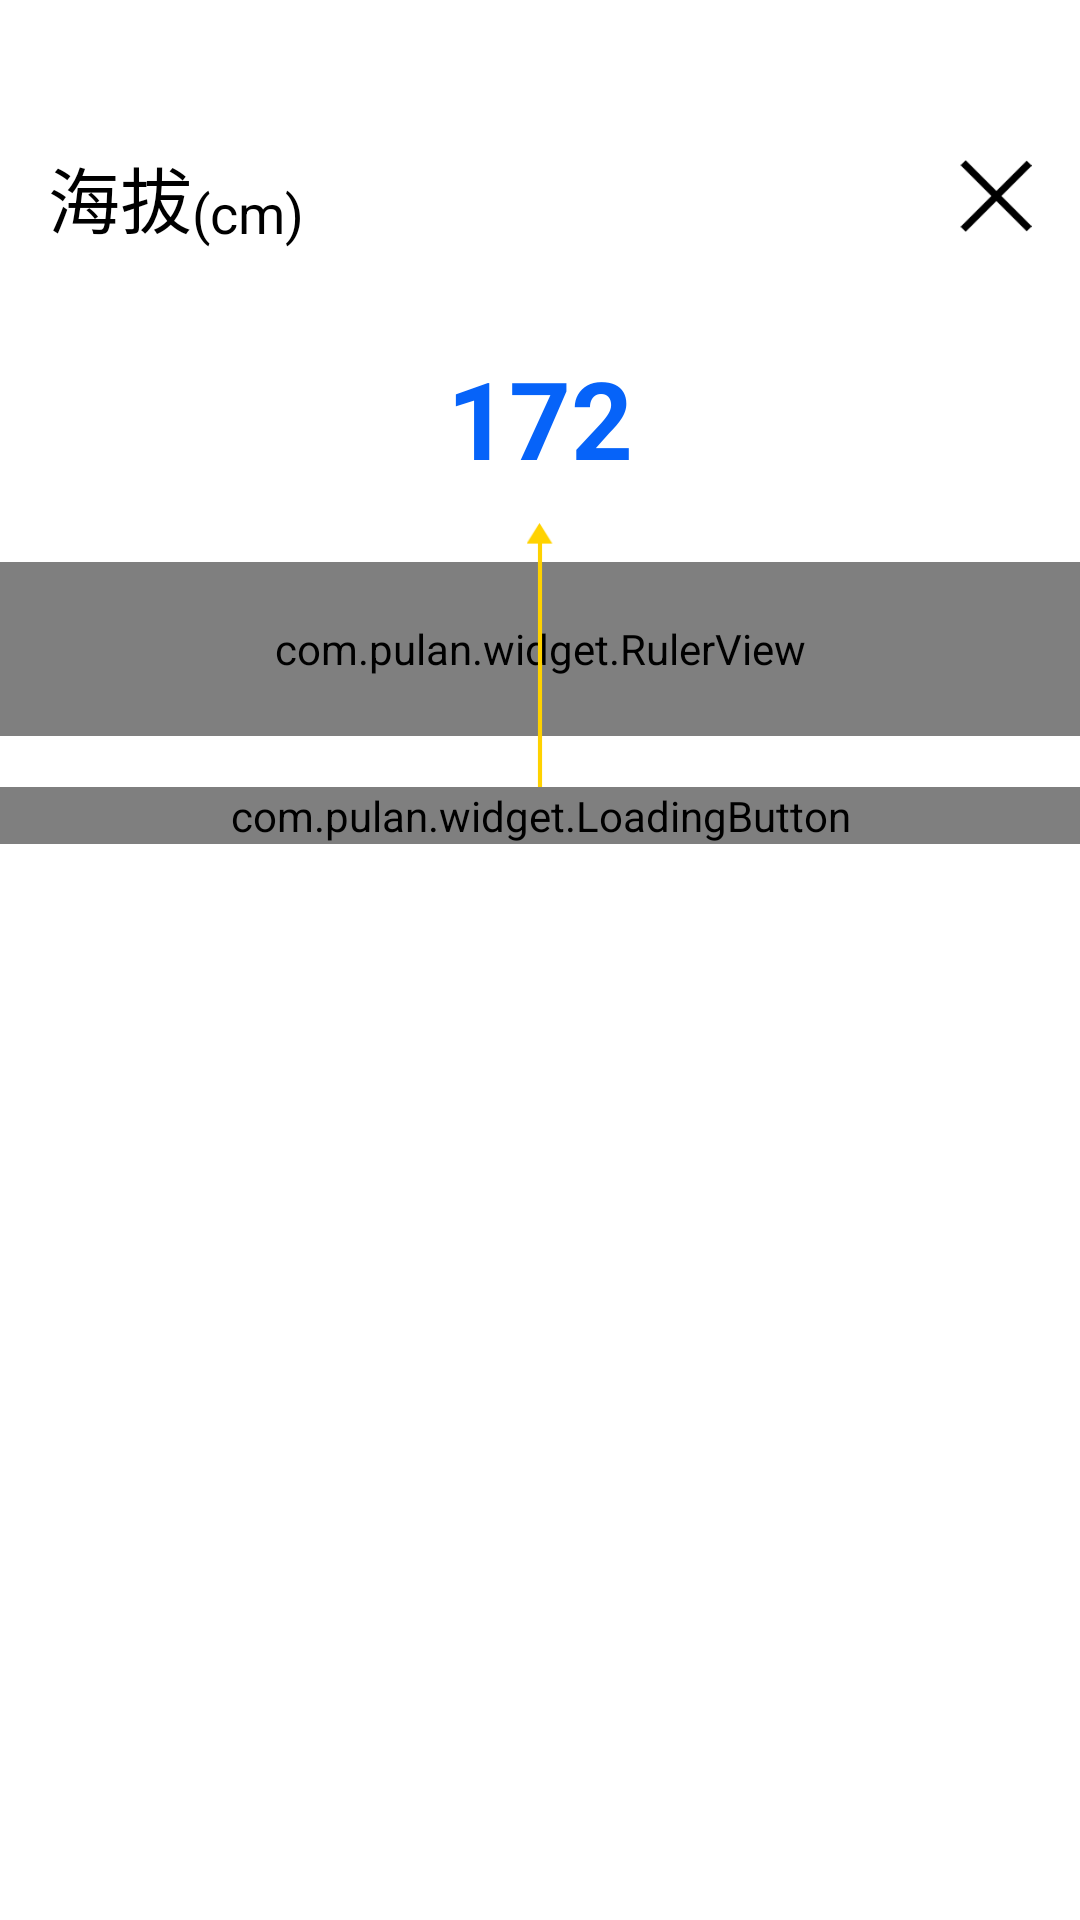

Screen size 1080px x 1920px. Icon name, then its center in pixels as point (x, y):
cancel: point (996, 196)
indicator: point (540, 655)
